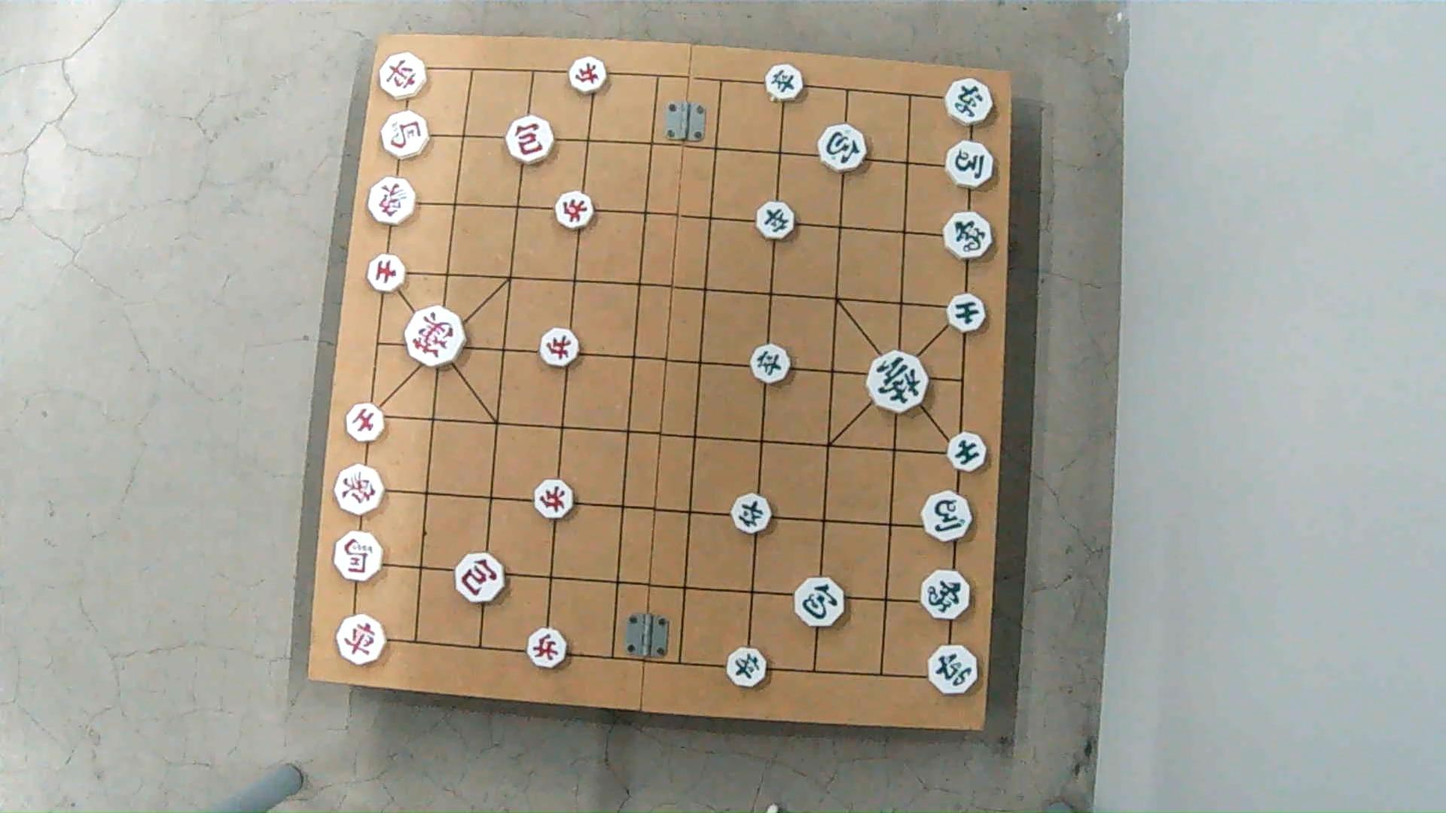cha_green: (927, 643, 980, 695), (945, 81, 998, 124)
cha_red: (335, 615, 386, 667), (377, 54, 429, 97)
jol_green: (725, 651, 770, 688), (730, 495, 773, 531), (758, 205, 799, 241), (762, 65, 804, 99), (752, 348, 795, 381)
jol_red: (551, 192, 600, 231), (566, 56, 612, 94), (526, 630, 569, 667), (534, 482, 578, 518), (539, 332, 582, 367)
ma_green: (940, 139, 998, 188), (922, 492, 975, 539)
ma_red: (330, 533, 387, 580), (381, 114, 432, 155)
po_green: (794, 575, 848, 629), (820, 127, 871, 170)
po_red: (455, 550, 508, 603), (504, 116, 555, 163)
sa_green: (943, 292, 989, 333), (947, 434, 990, 470)
sa_red: (341, 404, 385, 443), (365, 251, 407, 291)
sang_green: (920, 570, 974, 622), (941, 211, 994, 260)
sang_red: (331, 467, 384, 514), (367, 178, 416, 222)
wang_green: (864, 352, 929, 409)
wang_red: (403, 309, 466, 364)
